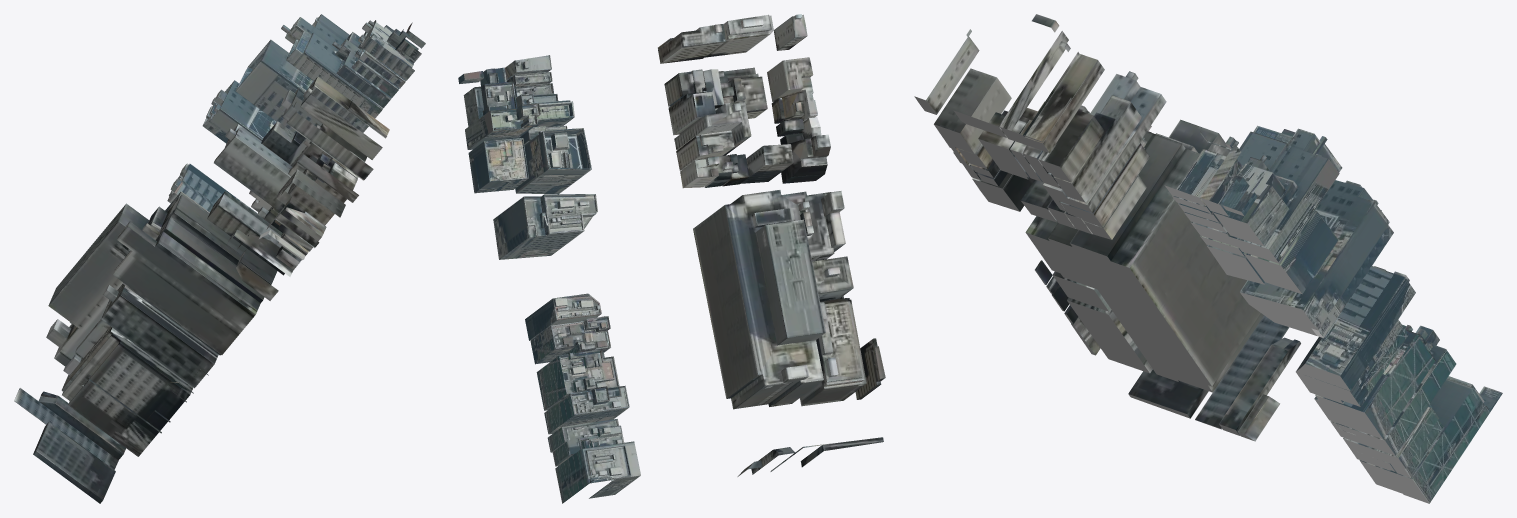
The model's file is 39540_bldg_Building.glb.
3 views of the same model, side by side, from view 1: azimuth 30°, elevation 25°; view 2: azimuth 150°, elevation 25°; view 3: azimuth 270°, elevation 25° (orthographic). The views are drawn at different scales.
Size of the model in its own units: 160 by 144 by 165.
Materials: 5 (2 with a texture image).
